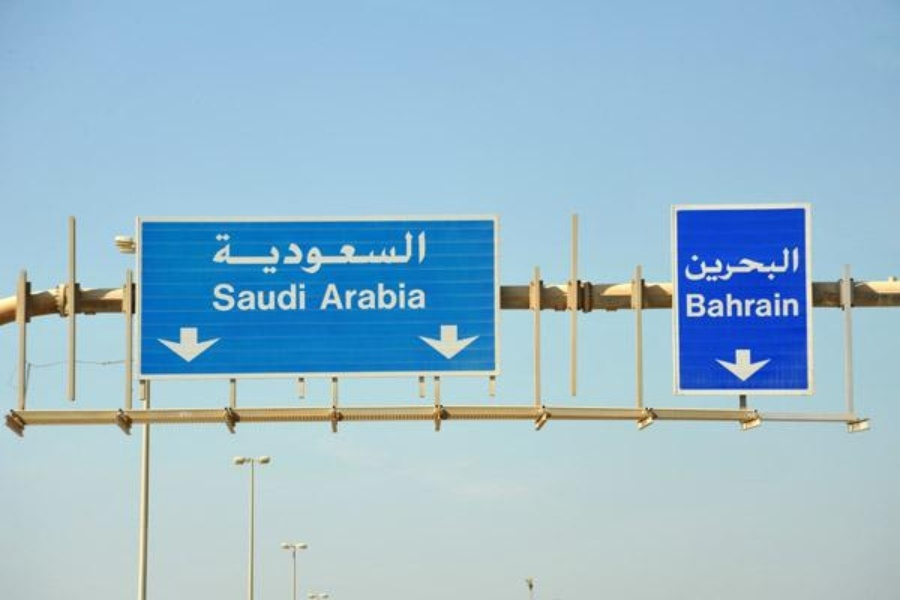text: (225, 232, 240, 275), (241, 232, 256, 275), (257, 232, 272, 275), (273, 232, 288, 275), (289, 232, 304, 275), (305, 232, 320, 275), (321, 232, 336, 275), (337, 232, 352, 275), (353, 232, 368, 275), (369, 232, 384, 275), (385, 232, 400, 275), (401, 232, 416, 275), (689, 245, 704, 283), (705, 245, 720, 283), (721, 245, 736, 283), (737, 245, 752, 283), (753, 245, 768, 283), (769, 245, 784, 283), (785, 245, 800, 283), (211, 232, 224, 275), (337, 281, 352, 313), (353, 281, 368, 313), (369, 281, 384, 313), (385, 281, 400, 313), (401, 281, 416, 313), (417, 232, 428, 275), (225, 283, 240, 314), (241, 283, 256, 314), (257, 283, 272, 314), (273, 283, 288, 314), (289, 283, 304, 314), (322, 281, 336, 313), (211, 283, 224, 314), (689, 293, 704, 319), (705, 293, 720, 319), (721, 293, 736, 319), (737, 293, 752, 319), (753, 293, 768, 319), (769, 293, 784, 319), (785, 293, 800, 319), (417, 281, 427, 313), (683, 293, 688, 319), (686, 245, 688, 283), (801, 245, 803, 283), (305, 283, 307, 314), (801, 293, 802, 319)
